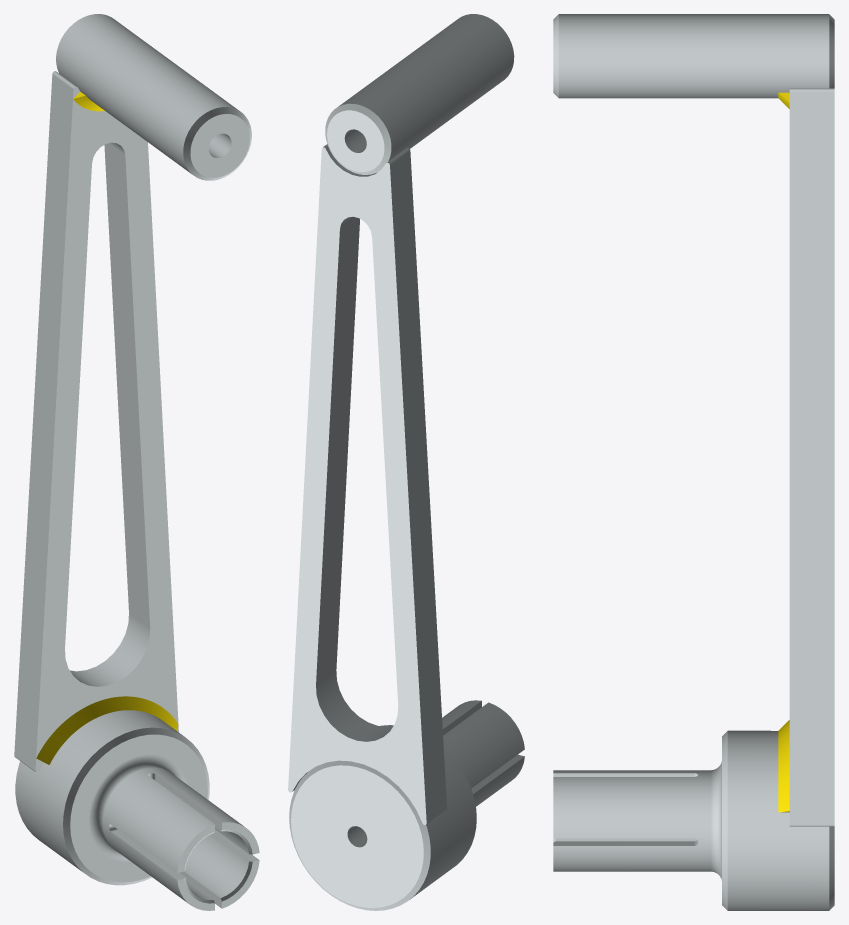
File: upperarm.glb
The picture shows the model from 3 angles, left to right: view 1: azimuth 30°, elevation 25°; view 2: azimuth 150°, elevation 25°; view 3: azimuth 270°, elevation 25°; orthographic projection. The views are drawn at different scales.
Parts seen in each view (by area): view 1: Mesh_0.002, Mesh_1.001, Mesh_3.001, Mesh_2.001; view 2: Mesh_0.002, Mesh_1.001, Mesh_3.001; view 3: Mesh_0.002, Mesh_1.001, Mesh_3.001, Mesh_2.001.
Part boxes in pixels (x1,y1,x2,y2): Mesh_0.002: [14, 71, 178, 772]; Mesh_1.001: [15, 710, 259, 910]; Mesh_3.001: [56, 14, 251, 180]; Mesh_2.001: [36, 696, 178, 764]; Mesh_0.002: [288, 144, 446, 824]; Mesh_1.001: [289, 700, 524, 910]; Mesh_3.001: [325, 14, 514, 174]; Mesh_0.002: [789, 88, 834, 826]; Mesh_1.001: [553, 730, 834, 910]; Mesh_3.001: [553, 14, 834, 98]; Mesh_2.001: [778, 720, 789, 812].
Bounding box in the file's own units: 3.2 × 17.35 × 5.
